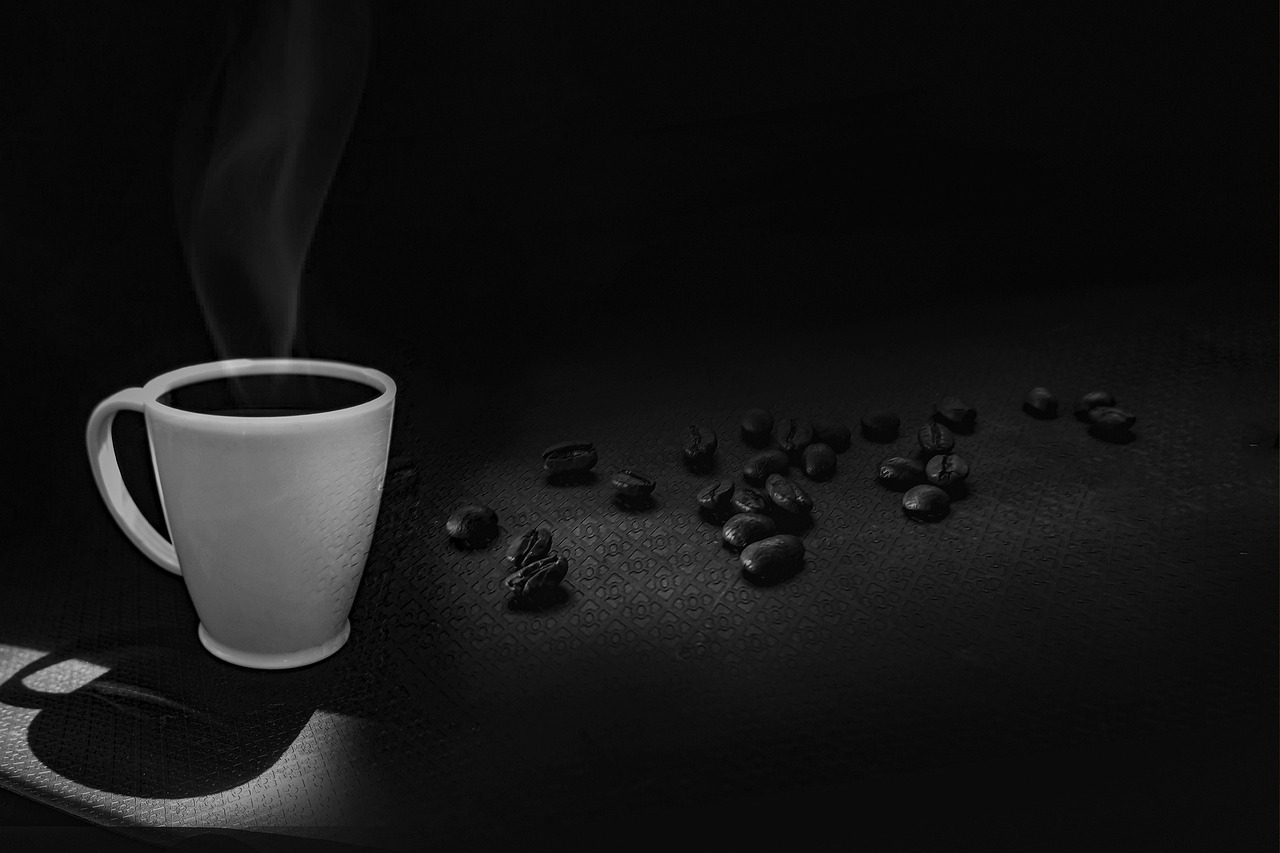mug: (66, 336, 421, 708)
